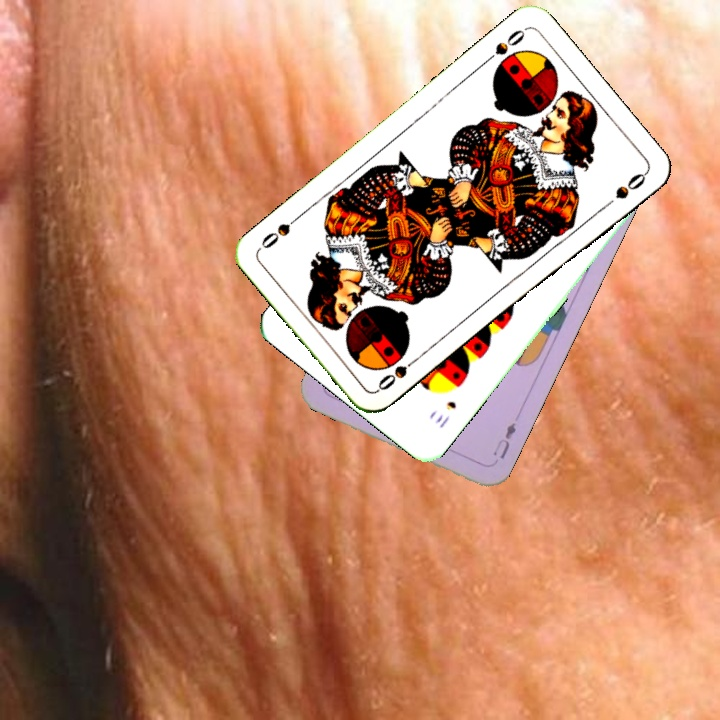EU: (489, 418, 519, 461)
S10: (431, 396, 459, 431)
SO: (479, 24, 529, 67), (373, 352, 423, 394)
